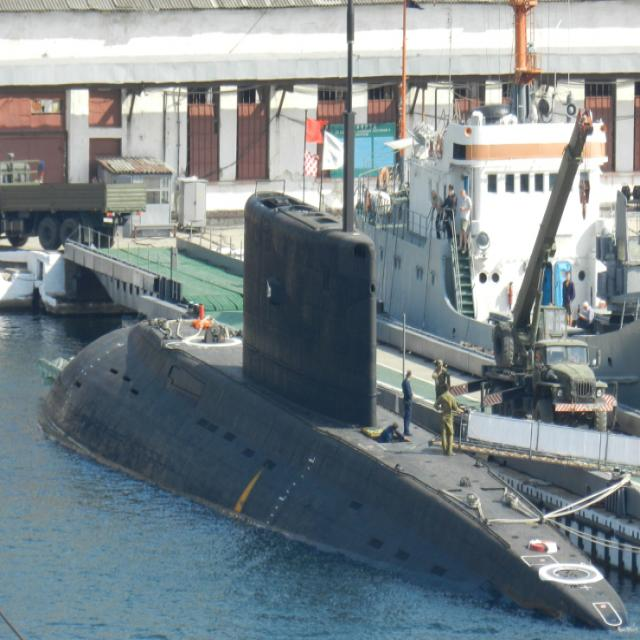submarine: (42, 178, 627, 631)
